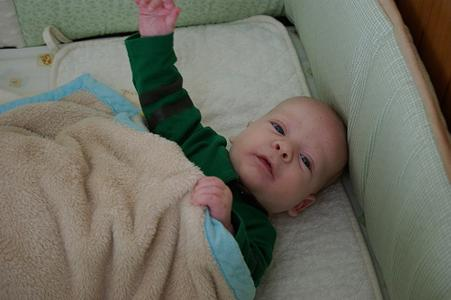person: (123, 1, 350, 300)
